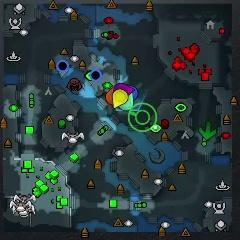p1: (128, 86, 138, 101)
p1Clone: (90, 69, 103, 82), (57, 60, 70, 72)
p2: (117, 93, 132, 111)
p3: (115, 83, 134, 94)
p4: (112, 90, 128, 108)
p5: (106, 86, 114, 104)
x4: (199, 121, 217, 141)
